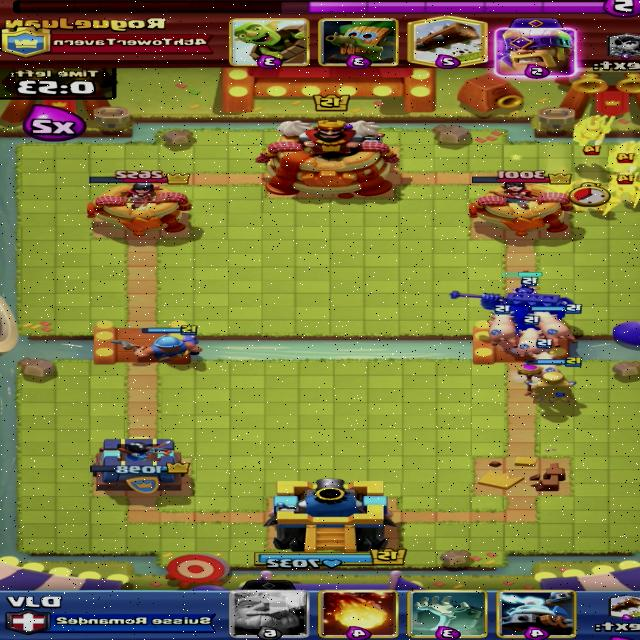Enemy-Goblin: (577, 180, 612, 216), (609, 173, 640, 208)
Enemy-SpearGoblin: (568, 112, 616, 154), (606, 140, 640, 175)
Player-CursedHog: (526, 304, 584, 348), (515, 316, 550, 357), (485, 305, 519, 346), (532, 338, 560, 374)
Player-Fisherman: (109, 325, 205, 363)
Player-Motherwitch: (517, 356, 585, 406)
Player-SkeletonKing: (449, 271, 574, 331)
